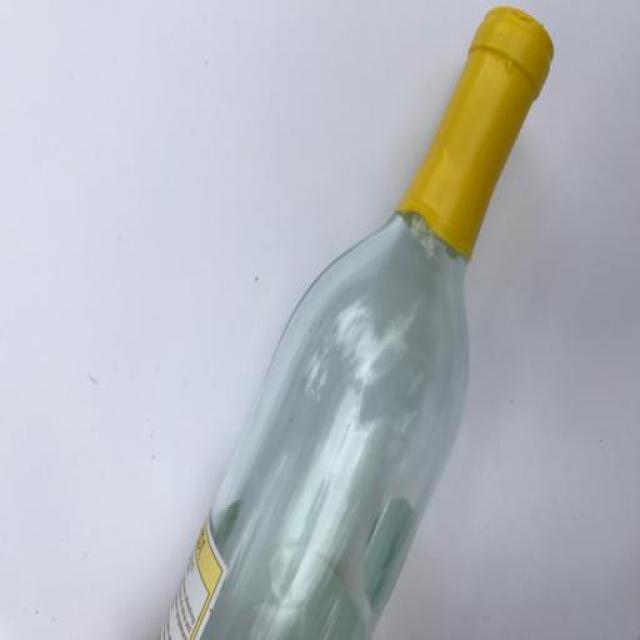glass: (104, 4, 640, 640)
